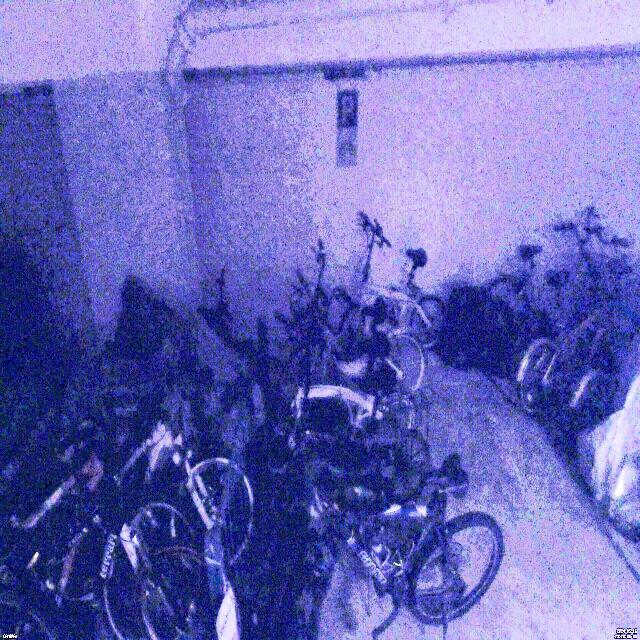bike: (44, 382, 254, 600), (0, 414, 198, 640), (277, 452, 504, 640), (262, 362, 432, 506), (516, 228, 640, 413), (286, 239, 426, 390), (486, 219, 604, 352), (332, 214, 446, 351)
